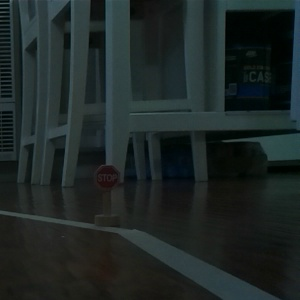stop sign: (90, 162, 123, 229)
